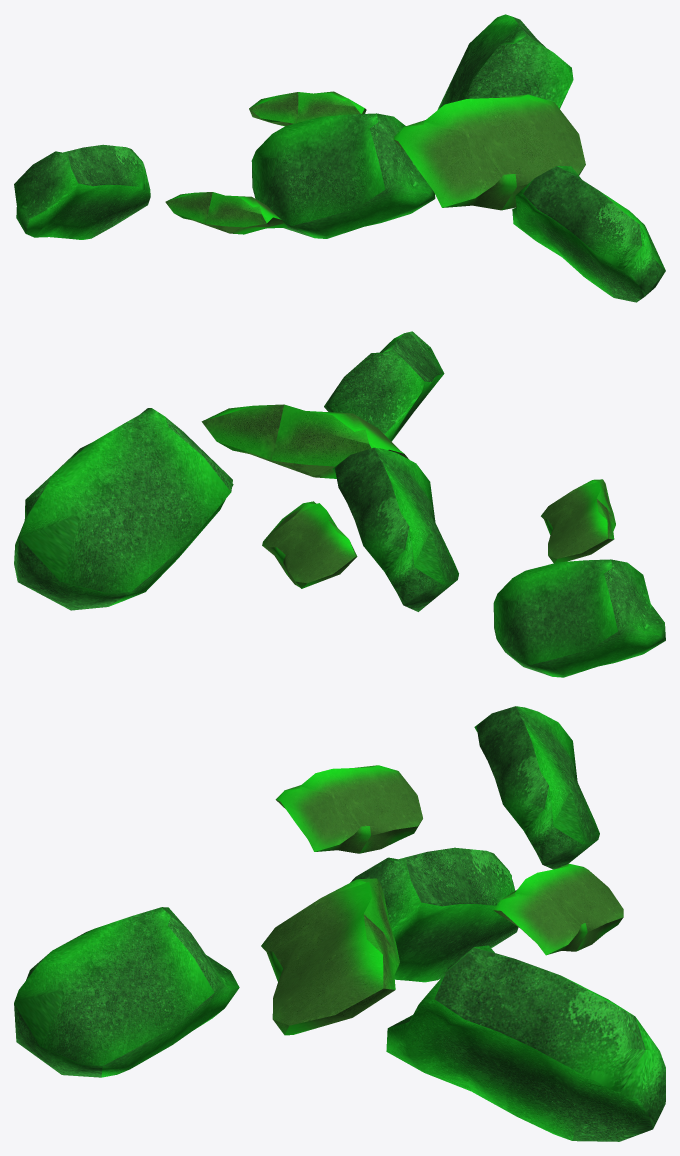
Rendered from cluster1.fbx.
3 renders of one model, top to bottom at view 1: azimuth 30°, elevation 25°; view 2: azimuth 150°, elevation 25°; view 3: azimuth 270°, elevation 25°, orthographic. The views are drawn at different scales.
Visible parts, largest first — view 1: Aset_nature_rock_M_wgoubaaaw_LOD5_3, Aset_nature_rock_S_vd5rfbr_LOD5_3, Aset_nature_rock_M_wgoubaaaw_LOD5_2, Aset_nature_rock_M_wgoubaaaw_LOD5_4, Aset_nature_rock_M_wgoubaaaw_LOD5_5, Aset_nature_rock_S_vd5rfbr_LOD5_2, Aset_nature_rock_S_vd5rfbr_LOD5_4; view 2: Aset_nature_rock_M_wgoubaaaw_LOD5_5, Aset_nature_rock_M_wgoubaaaw_LOD5_4, Aset_nature_rock_M_wgoubaaaw_LOD5_3, Aset_nature_rock_S_vd5rfbr_LOD5_3, Aset_nature_rock_M_wgoubaaaw_LOD5_2, Aset_nature_rock_S_vd5rfbr_LOD5_4, Aset_nature_rock_S_vd5rfbr_LOD5_2; view 3: Aset_nature_rock_M_wgoubaaaw_LOD5_5, Aset_nature_rock_M_wgoubaaaw_LOD5_2, Aset_nature_rock_S_vd5rfbr_LOD5_3, Aset_nature_rock_M_wgoubaaaw_LOD5_3, Aset_nature_rock_M_wgoubaaaw_LOD5_4, Aset_nature_rock_S_vd5rfbr_LOD5_2, Aset_nature_rock_S_vd5rfbr_LOD5_4.
Part boxes in pixels (<box>): Aset_nature_rock_M_wgoubaaaw_LOD5_3: <box>251,113,435,238</box>; Aset_nature_rock_S_vd5rfbr_LOD5_3: <box>393,94,585,210</box>; Aset_nature_rock_M_wgoubaaaw_LOD5_2: <box>512,165,665,302</box>; Aset_nature_rock_M_wgoubaaaw_LOD5_4: <box>14,144,150,239</box>; Aset_nature_rock_M_wgoubaaaw_LOD5_5: <box>437,14,573,109</box>; Aset_nature_rock_S_vd5rfbr_LOD5_2: <box>165,192,287,234</box>; Aset_nature_rock_S_vd5rfbr_LOD5_4: <box>249,91,366,126</box>; Aset_nature_rock_M_wgoubaaaw_LOD5_5: <box>14,408,233,610</box>; Aset_nature_rock_M_wgoubaaaw_LOD5_4: <box>493,559,665,677</box>; Aset_nature_rock_M_wgoubaaaw_LOD5_3: <box>332,447,458,611</box>; Aset_nature_rock_S_vd5rfbr_LOD5_3: <box>201,404,409,478</box>; Aset_nature_rock_M_wgoubaaaw_LOD5_2: <box>324,331,444,441</box>; Aset_nature_rock_S_vd5rfbr_LOD5_4: <box>262,501,357,588</box>; Aset_nature_rock_S_vd5rfbr_LOD5_2: <box>541,479,615,563</box>; Aset_nature_rock_M_wgoubaaaw_LOD5_5: <box>386,945,665,1141</box>; Aset_nature_rock_M_wgoubaaaw_LOD5_2: <box>14,907,239,1077</box>; Aset_nature_rock_S_vd5rfbr_LOD5_3: <box>261,878,399,1035</box>; Aset_nature_rock_M_wgoubaaaw_LOD5_3: <box>350,847,518,982</box>; Aset_nature_rock_M_wgoubaaaw_LOD5_4: <box>474,706,599,869</box>; Aset_nature_rock_S_vd5rfbr_LOD5_2: <box>275,765,422,853</box>; Aset_nature_rock_S_vd5rfbr_LOD5_4: <box>493,863,623,955</box>.
Size of what is drawn, in the model's own units: 232 by 62.11 by 191.
2 materials, 2 textured.
